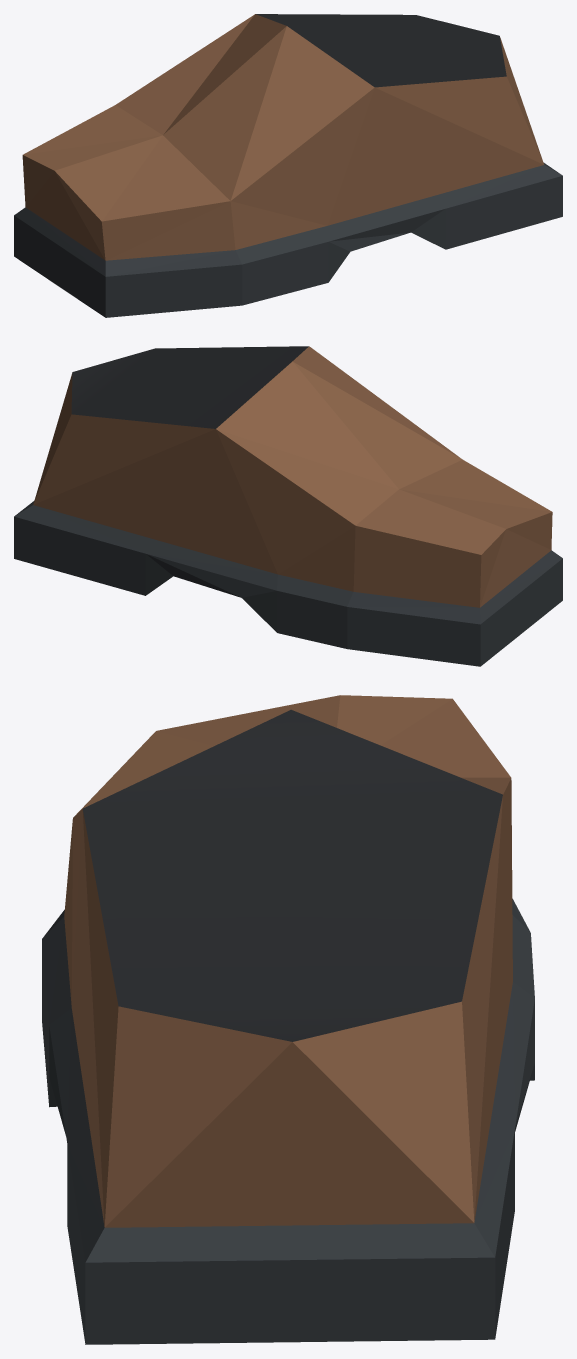
The model's file is SM_Prop_Shoes_01.fbx.
3 renders of one model, top to bottom at view 1: azimuth 30°, elevation 25°; view 2: azimuth 150°, elevation 25°; view 3: azimuth 270°, elevation 25°, orthographic. The views are drawn at different scales.
Parts seen in each view (by area): view 1: SM_Prop_Shoes_01; view 2: SM_Prop_Shoes_01; view 3: SM_Prop_Shoes_01.
Boxes of the visible parts, x1=… form: SM_Prop_Shoes_01: x1=14, y1=14, x2=562, y2=317; SM_Prop_Shoes_01: x1=14, y1=346, x2=562, y2=666; SM_Prop_Shoes_01: x1=42, y1=695, x2=534, y2=1344.
Bounding box in the file's own units: 23.5 × 10.32 × 11.09.
